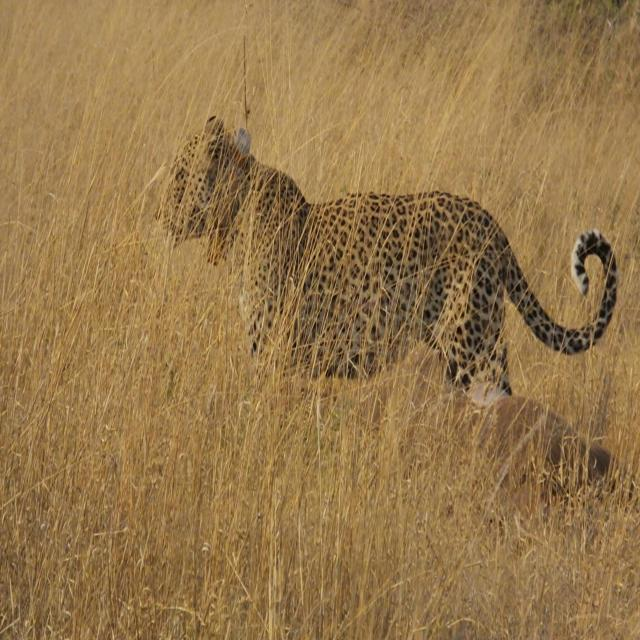Leopard: (161, 99, 614, 414)
